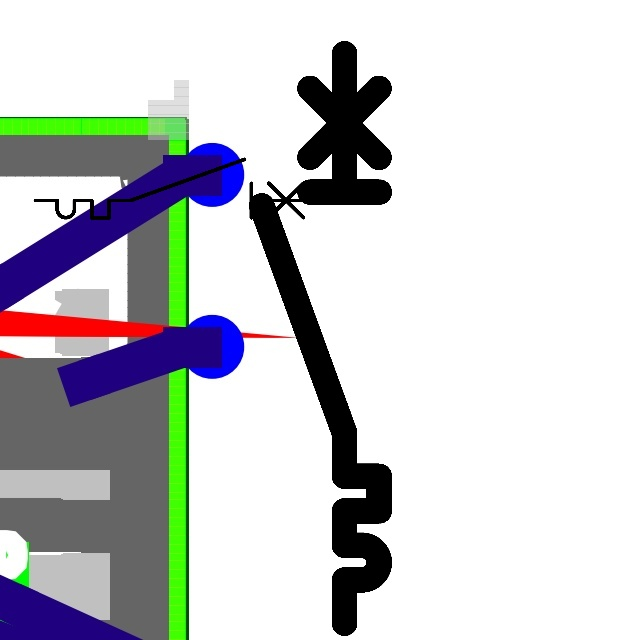interruptor_termomagnetico: (247, 39, 394, 638), (28, 152, 328, 225)
